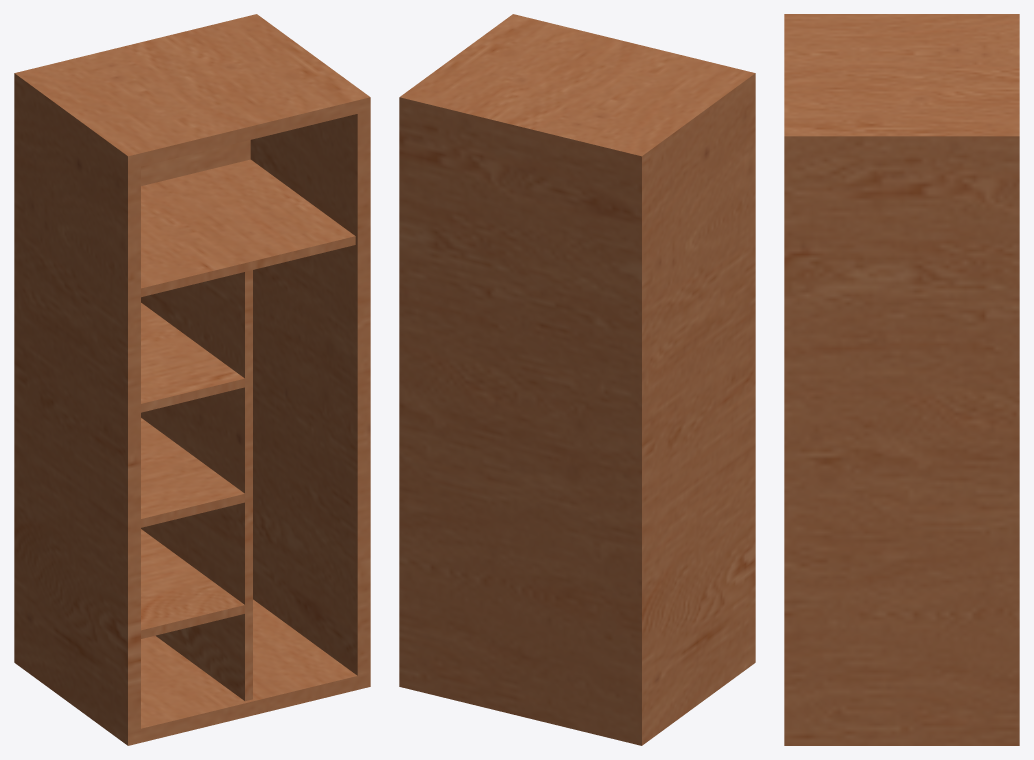
Rendered from Closet17.fbx.
3 views of the same model, side by side, from view 1: azimuth 30°, elevation 25°; view 2: azimuth 150°, elevation 25°; view 3: azimuth 270°, elevation 25° (orthographic). The views are drawn at different scales.
Parts seen in each view (by area): view 1: Closet17; view 2: Closet17; view 3: Closet17.
Boxes of the visible parts, x1=… form: Closet17: x1=14, y1=14, x2=370, y2=745; Closet17: x1=399, y1=14, x2=755, y2=745; Closet17: x1=784, y1=14, x2=1019, y2=745.
Size of the model in its own units: 109 by 254 by 88.93.
